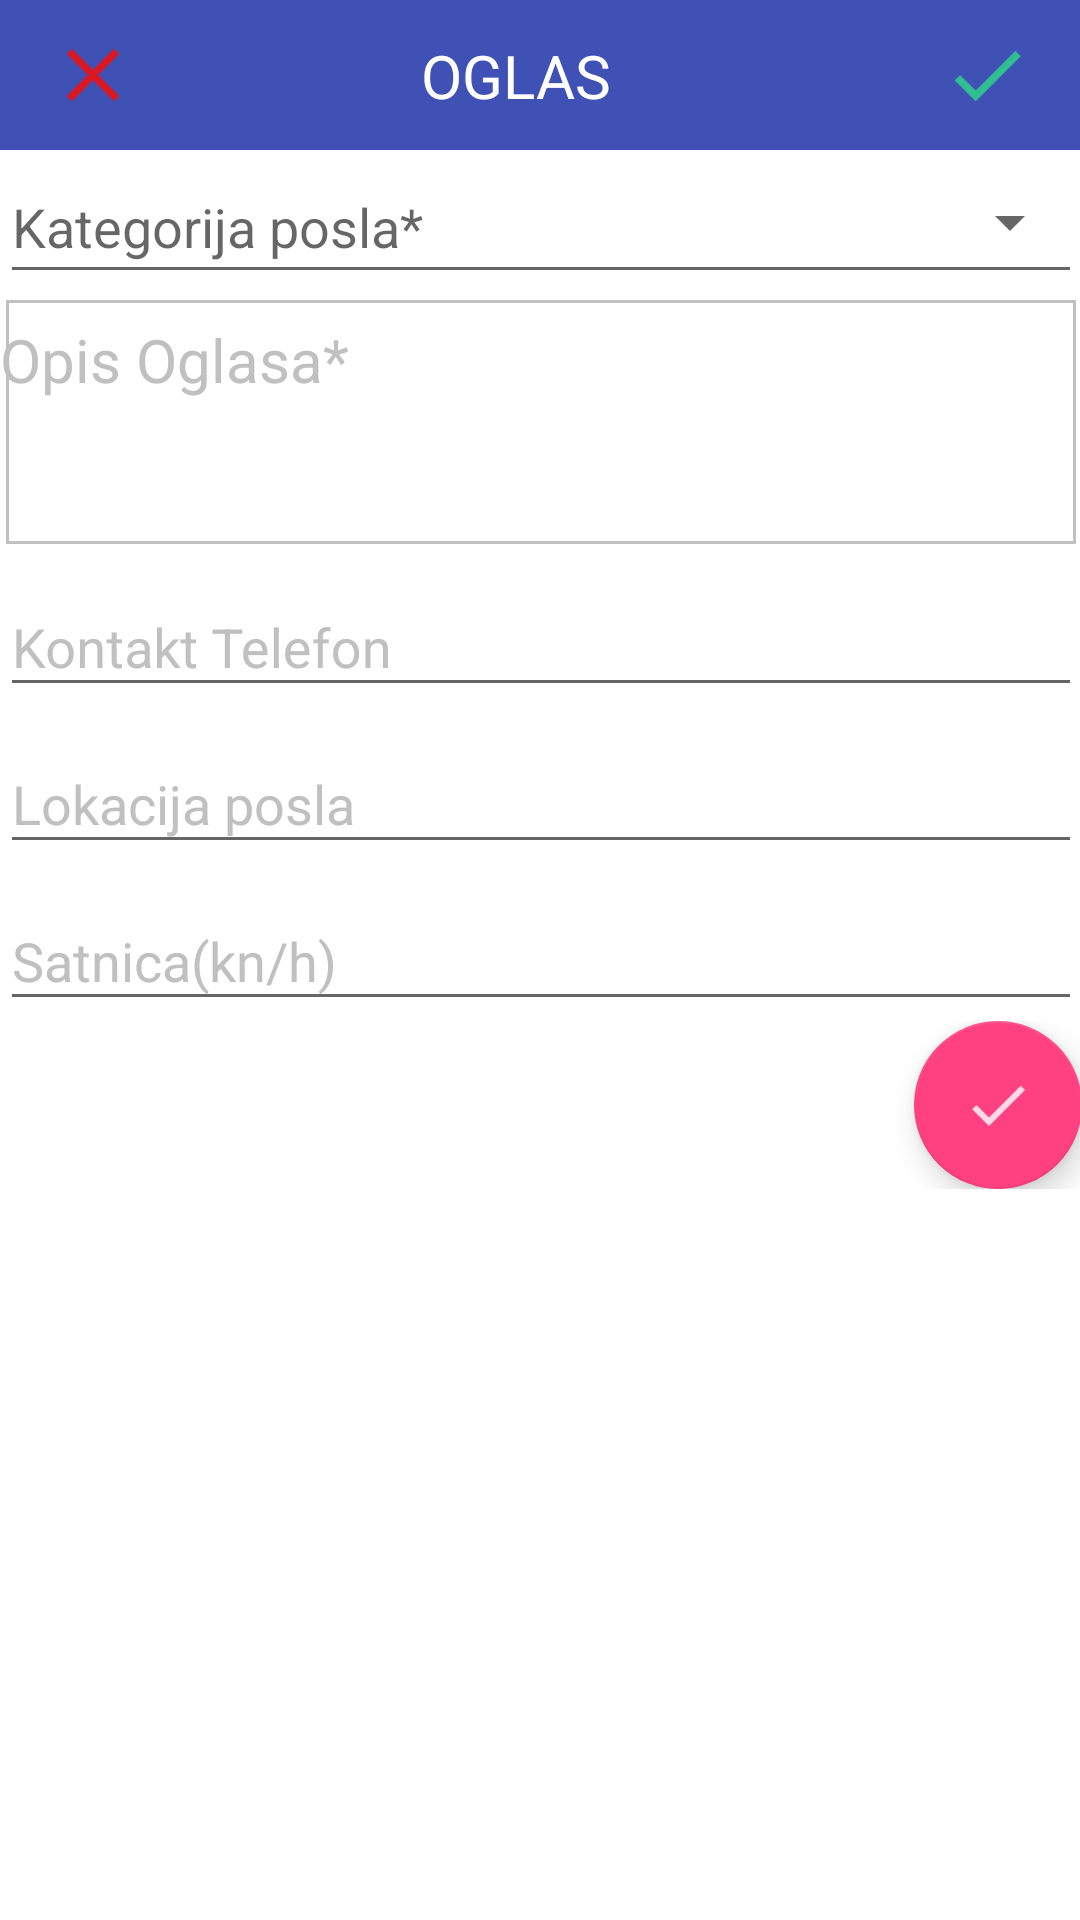

Screen size 1080*1920. Icon name, then its center in pixels as (x,y):
checkmark: (988,76), (997,1105)
close: (93,75)
